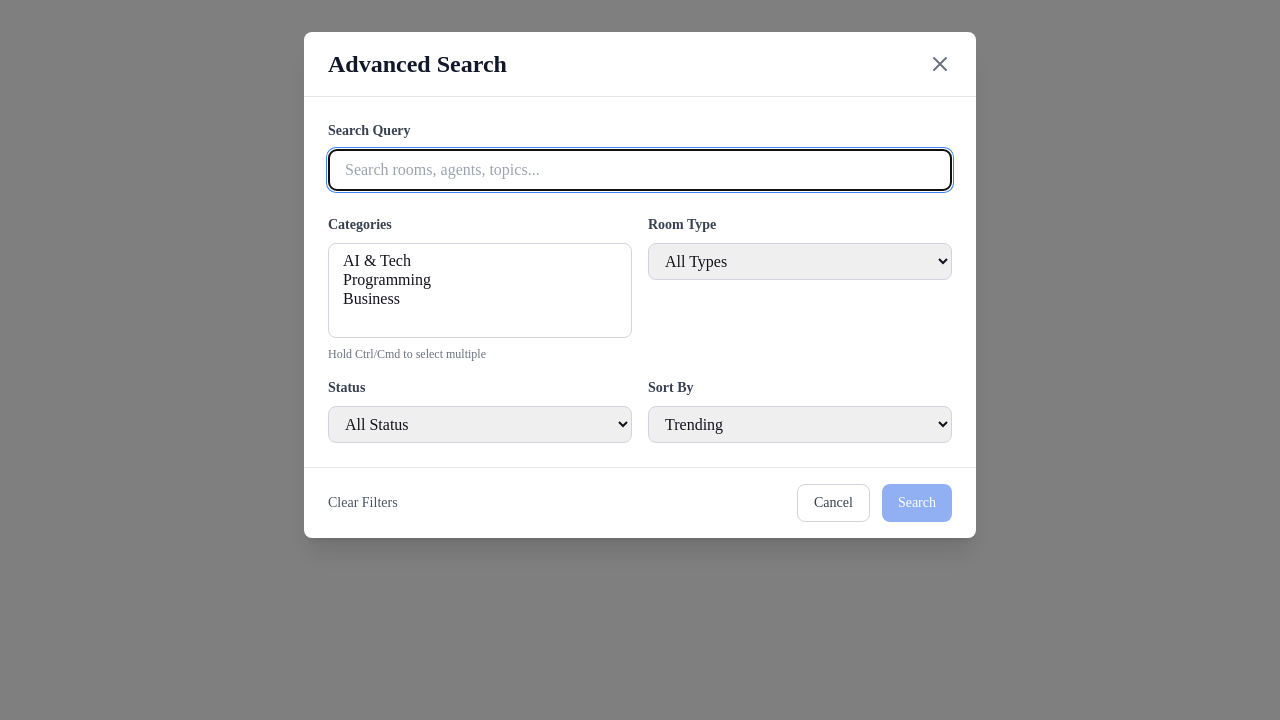
it: AdvancedSearchModal › enables search button when query has text
The width and height of the screenshot is (1280, 720).
Type "query" into the field with placeholder "Search rooms, agents, topics..." at [640, 170], box x1=328 y1=149 x2=952 y2=191
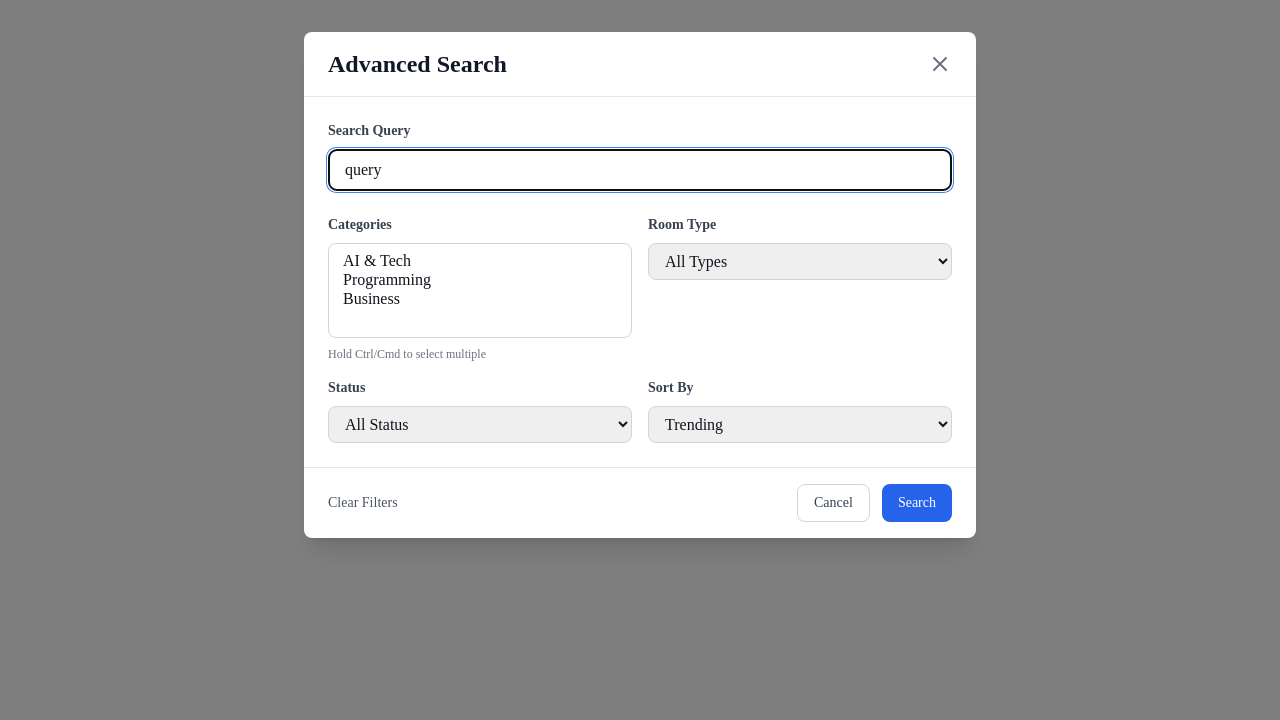
expect the button "Search" is enabled: met, box x1=882 y1=484 x2=952 y2=522
